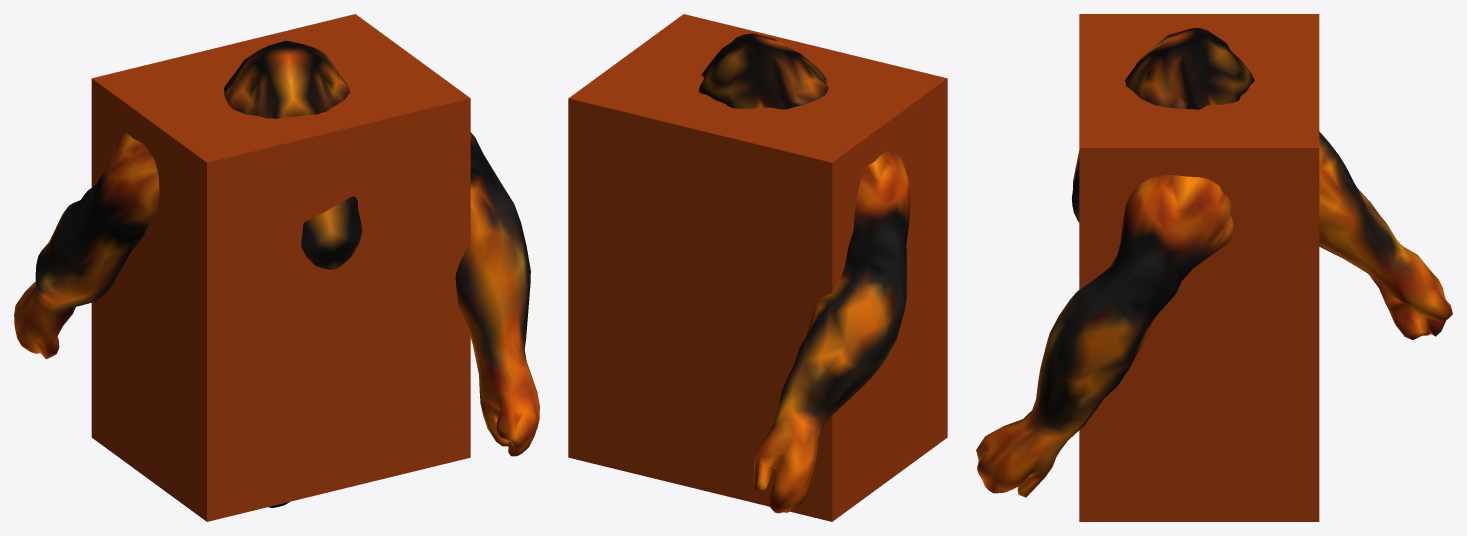
Rendered from MagmaElemental_1_000028.obj.
3 renders of one model, left to right at view 1: azimuth 30°, elevation 25°; view 2: azimuth 150°, elevation 25°; view 3: azimuth 270°, elevation 25°, orthographic. The views are drawn at different scales.
Visible parts, largest first — view 1: Cube, Elemental_FireGolem; view 2: Cube, Elemental_FireGolem; view 3: Cube, Elemental_FireGolem.
Part boxes in pixels (left/top/right/bottom): Cube: left=91, top=14, right=470, bottom=521; Elemental_FireGolem: left=14, top=40, right=539, bottom=507; Cube: left=568, top=14, right=947, bottom=521; Elemental_FireGolem: left=699, top=33, right=910, bottom=513; Cube: left=1079, top=14, right=1319, bottom=521; Elemental_FireGolem: left=976, top=28, right=1452, bottom=497.
Size of the model in its own units: 3.37 by 3.91 by 3.56.
2 materials, 1 textured.
